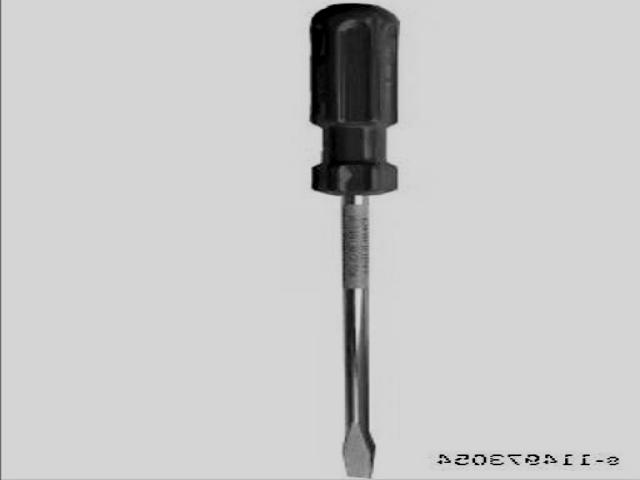Screwdriver: (310, 4, 398, 478)
